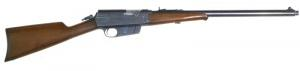rifle: (1, 0, 300, 71)
